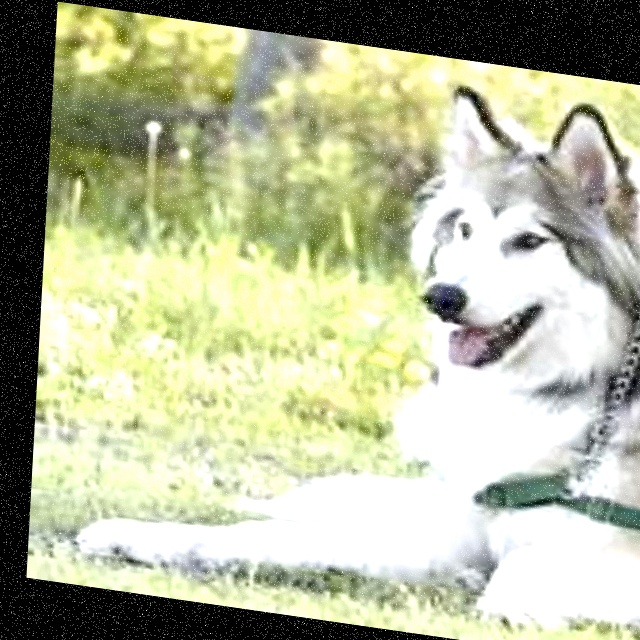dog: (175, 34, 640, 640)
